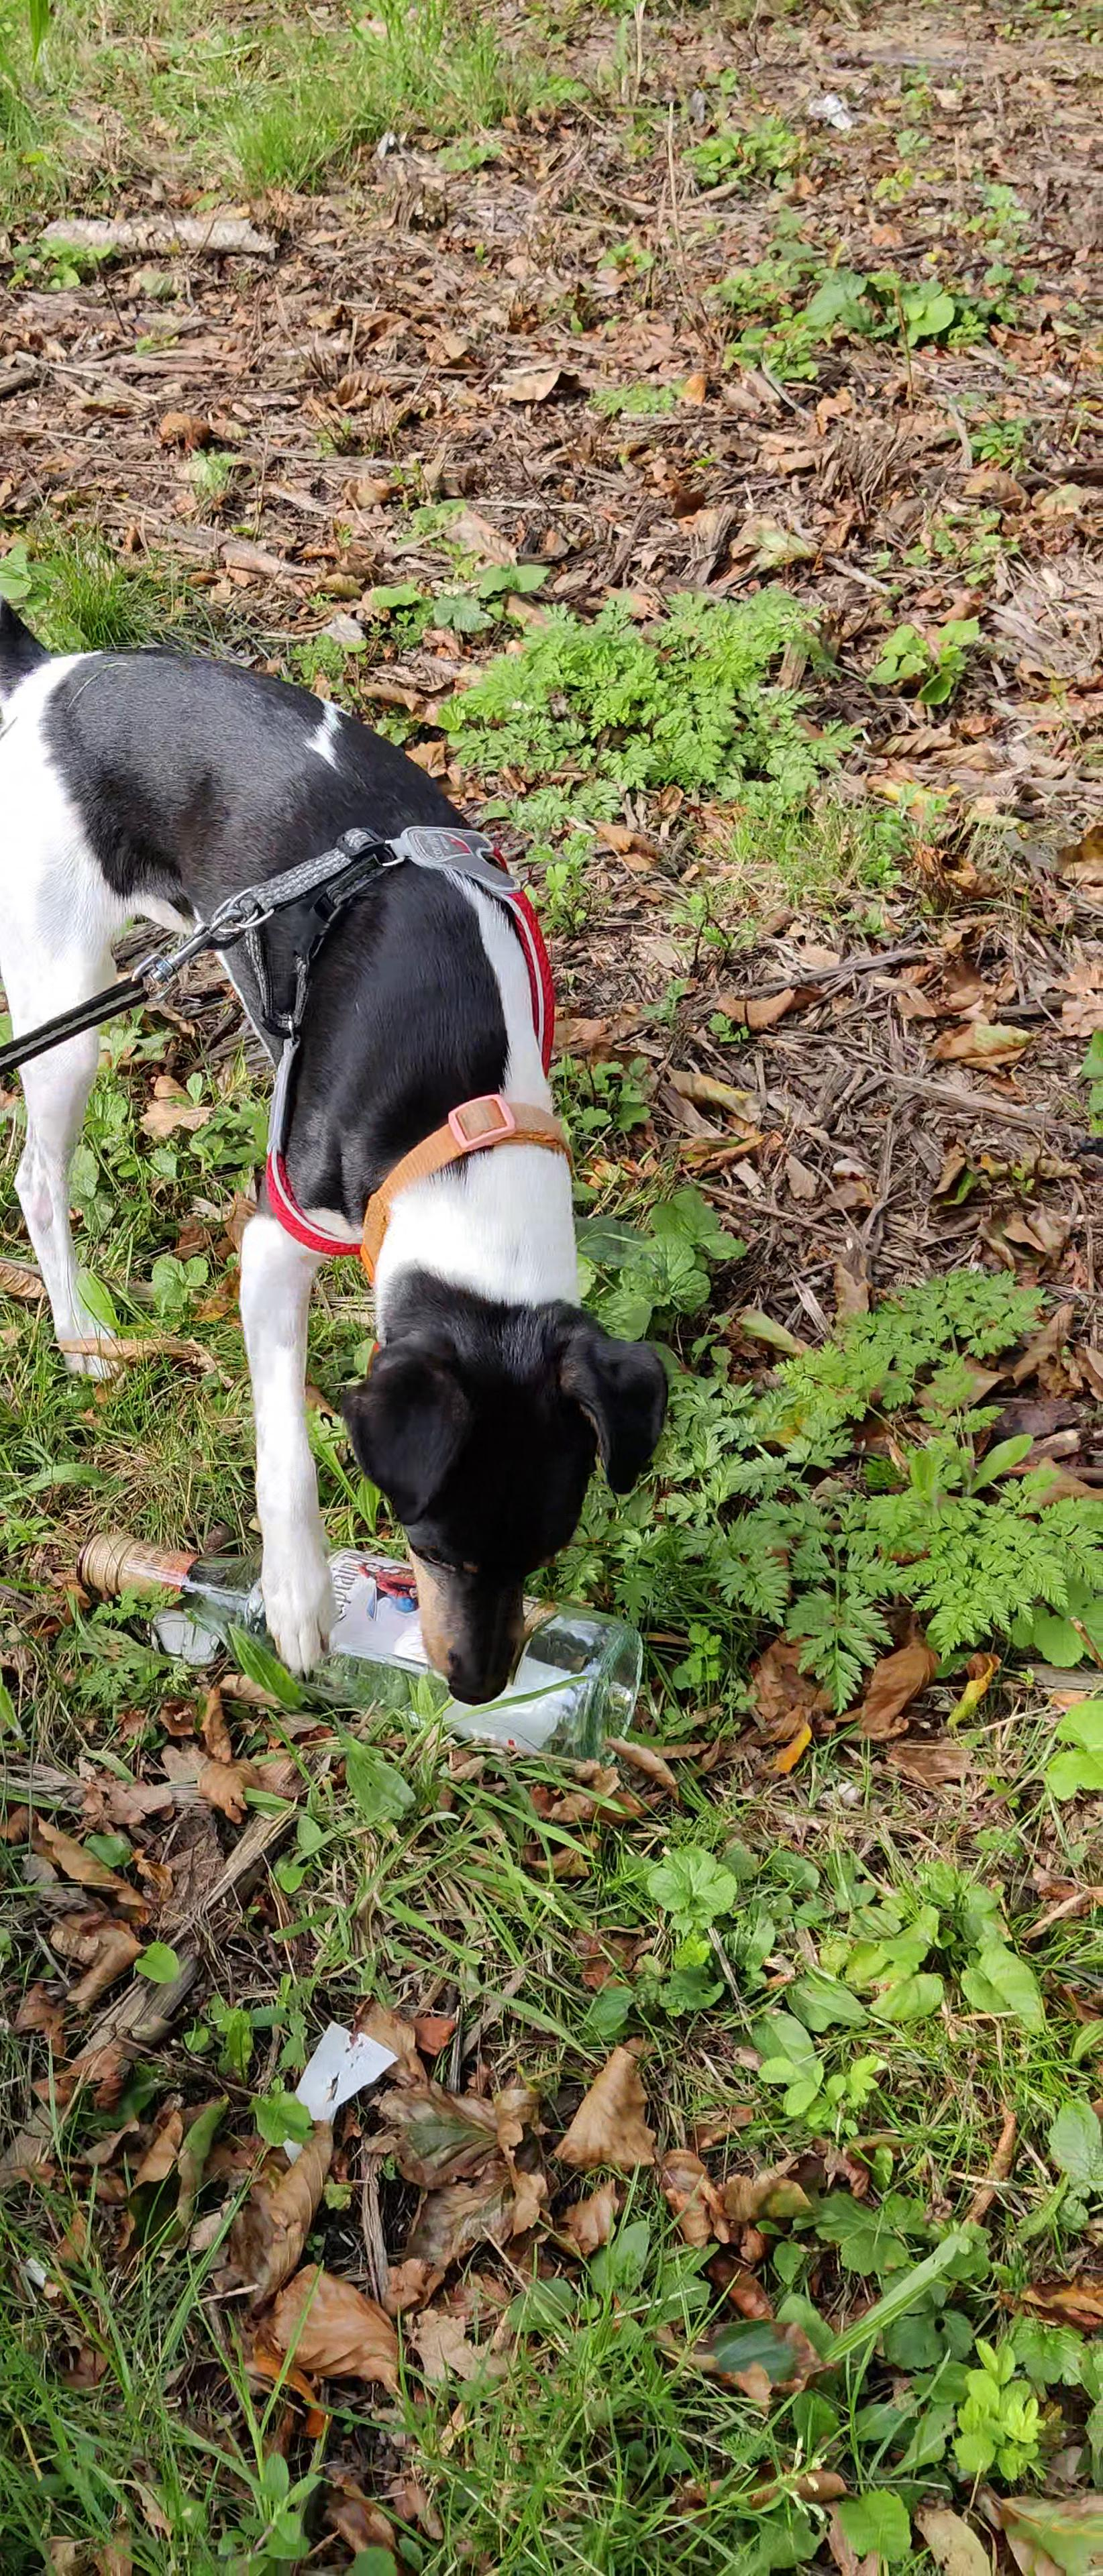Dog: (0, 573, 679, 1705)
